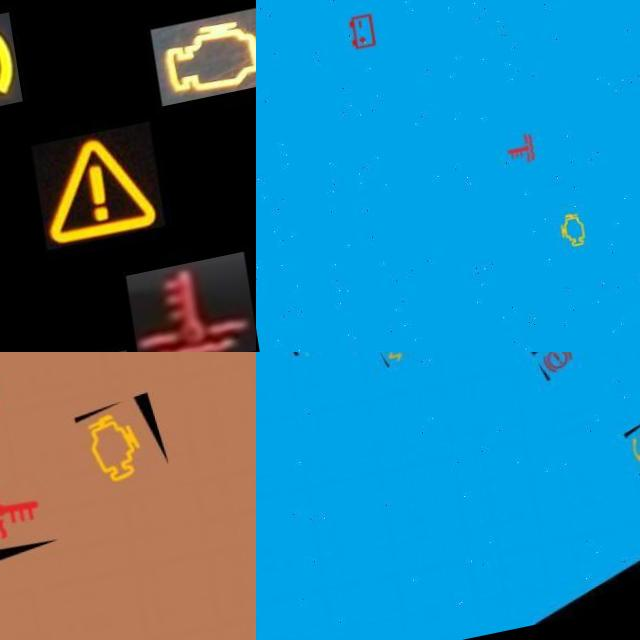Central Warning lamp: (21, 132, 152, 256)
Engine cooling system: (111, 264, 241, 352)
